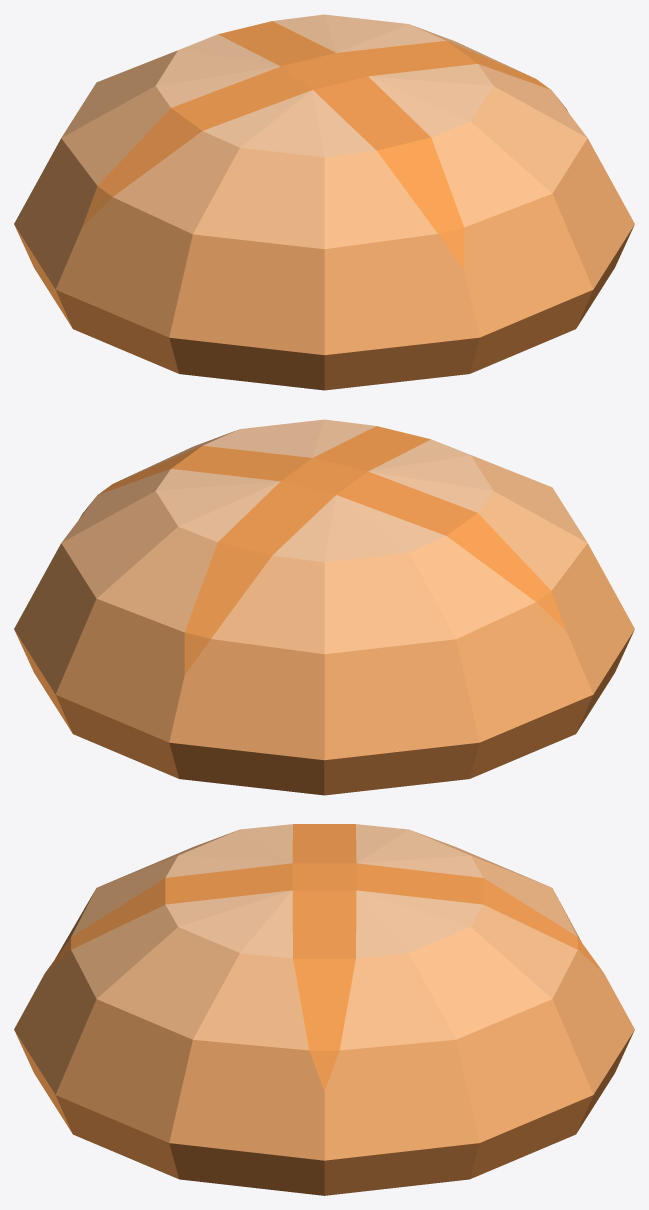
File: BAKE_Bread_02.fbx
The picture shows the model from 3 angles, top to bottom: view 1: azimuth 30°, elevation 25°; view 2: azimuth 150°, elevation 25°; view 3: azimuth 270°, elevation 25°; orthographic projection.
Parts seen in each view (by area): view 1: BAKE_Bread_02; view 2: BAKE_Bread_02; view 3: BAKE_Bread_02.
Boxes of the visible parts, box(x1,y1,x2,y2) form: BAKE_Bread_02: box(14, 14, 634, 390); BAKE_Bread_02: box(14, 419, 634, 795); BAKE_Bread_02: box(14, 824, 634, 1195).
Bounding box in the file's own units: 0.4208 × 0.159 × 0.4208.
